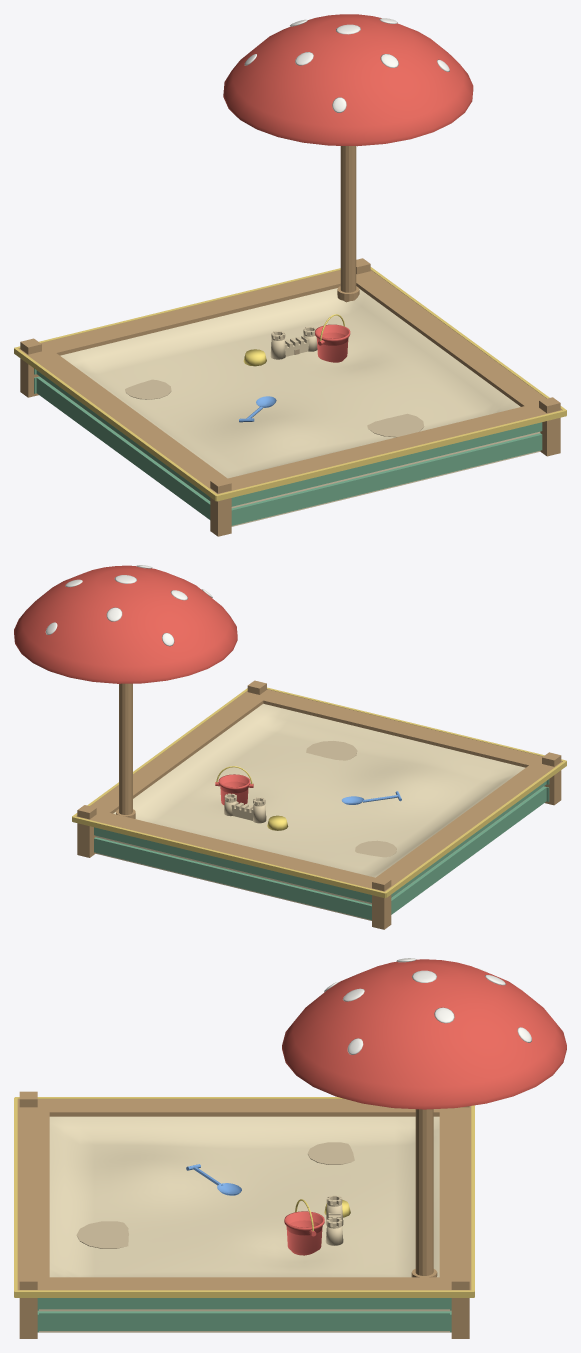
The model's file is sandbox.glb.
3 renders of one model, top to bottom at view 1: azimuth 30°, elevation 25°; view 2: azimuth 150°, elevation 25°; view 3: azimuth 270°, elevation 25°, orthographic. The views are drawn at different scales.
Visible parts, largest first — view 1: Sandbox; view 2: Sandbox; view 3: Sandbox.
Part boxes in pixels (<box>): Sandbox: <box>14,14,566,536</box>; Sandbox: <box>14,565,566,929</box>; Sandbox: <box>14,958,566,1338</box>.
Bounding box in the file's own units: 3.69 × 2.54 × 3.69.
